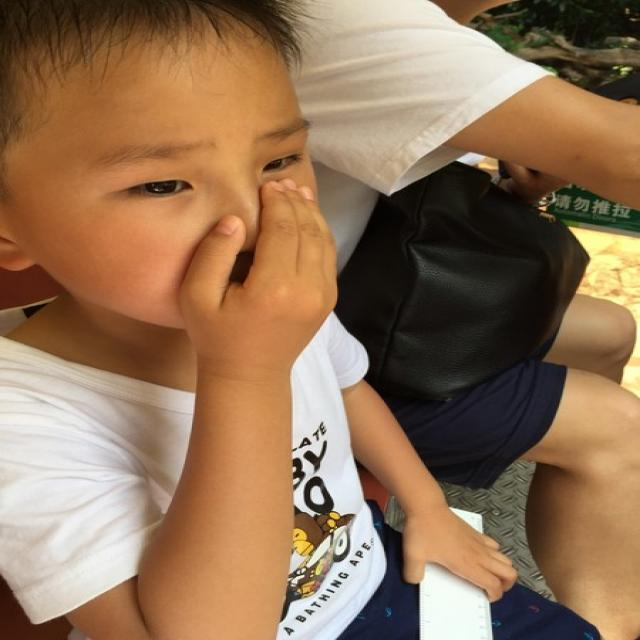nomask: (32, 28, 338, 330)
